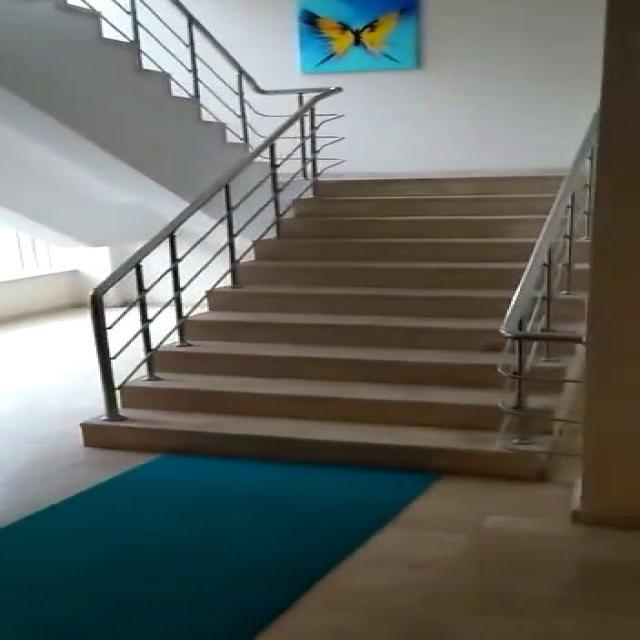upstair: (79, 163, 576, 471)
